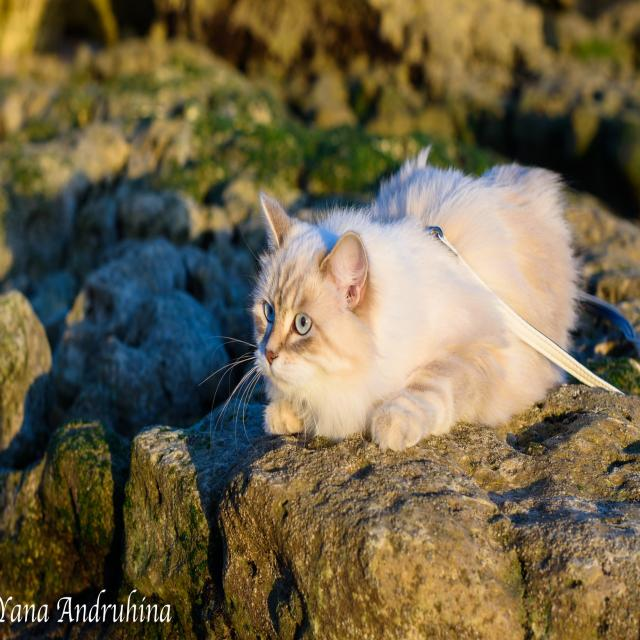Neva Masquerade: (247, 150, 582, 456)
